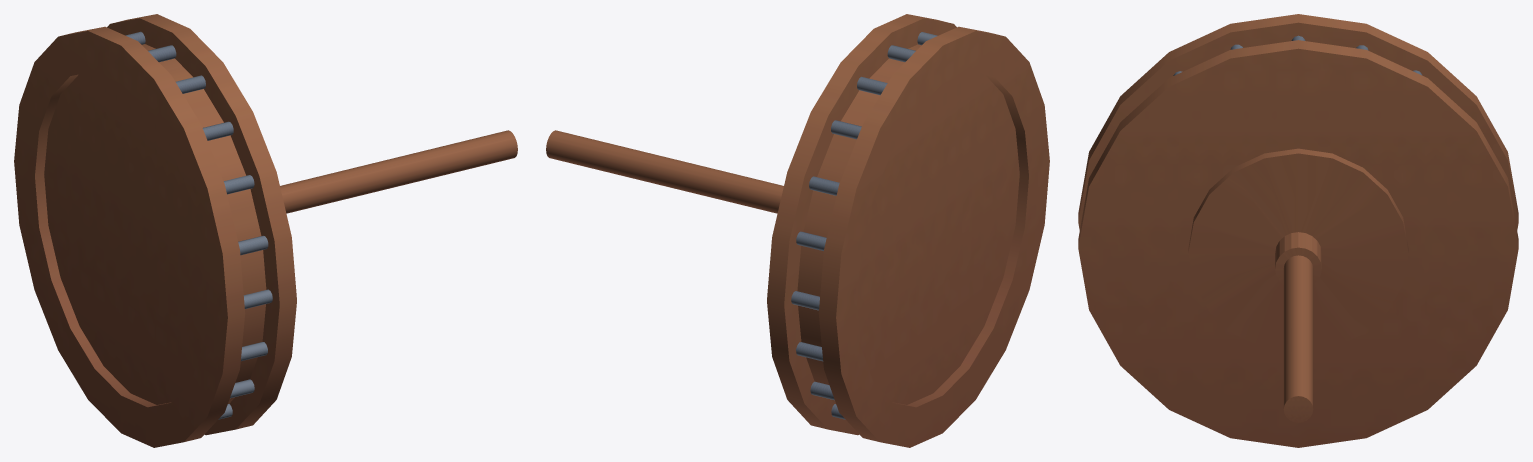
File: Wheel.fbx
3 renders of one model, left to right at view 1: azimuth 30°, elevation 25°; view 2: azimuth 150°, elevation 25°; view 3: azimuth 270°, elevation 25°, orthographic. The views are drawn at different scales.
Parts seen in each view (by area): view 1: pCylinder3; view 2: pCylinder3; view 3: pCylinder3.
Boxes of the visible parts, x1,y1,x2,y2 form: pCylinder3: (14, 14, 517, 447); pCylinder3: (546, 14, 1049, 447); pCylinder3: (1078, 14, 1518, 447).
Bounding box in the file's own units: 64.63 × 61.43 × 61.43.
Materials: 1 (1 with a texture image).
